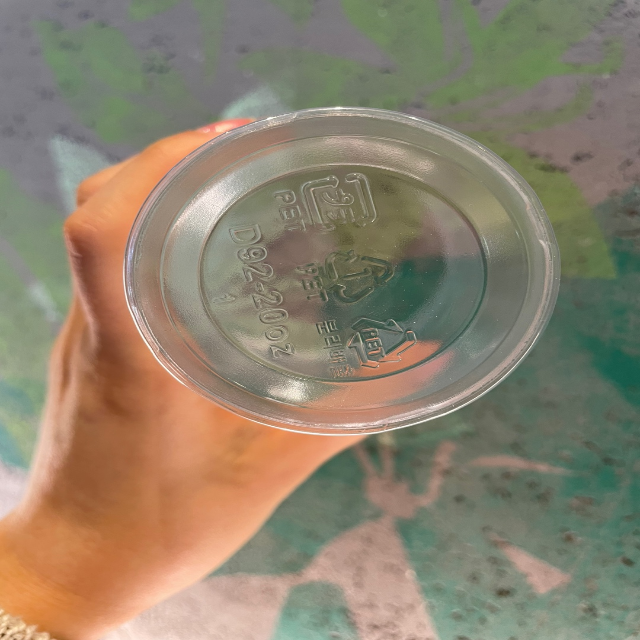pet: (267, 167, 384, 242), (314, 310, 431, 381), (295, 243, 409, 311)
